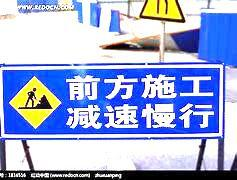sign: (1, 64, 221, 137)
